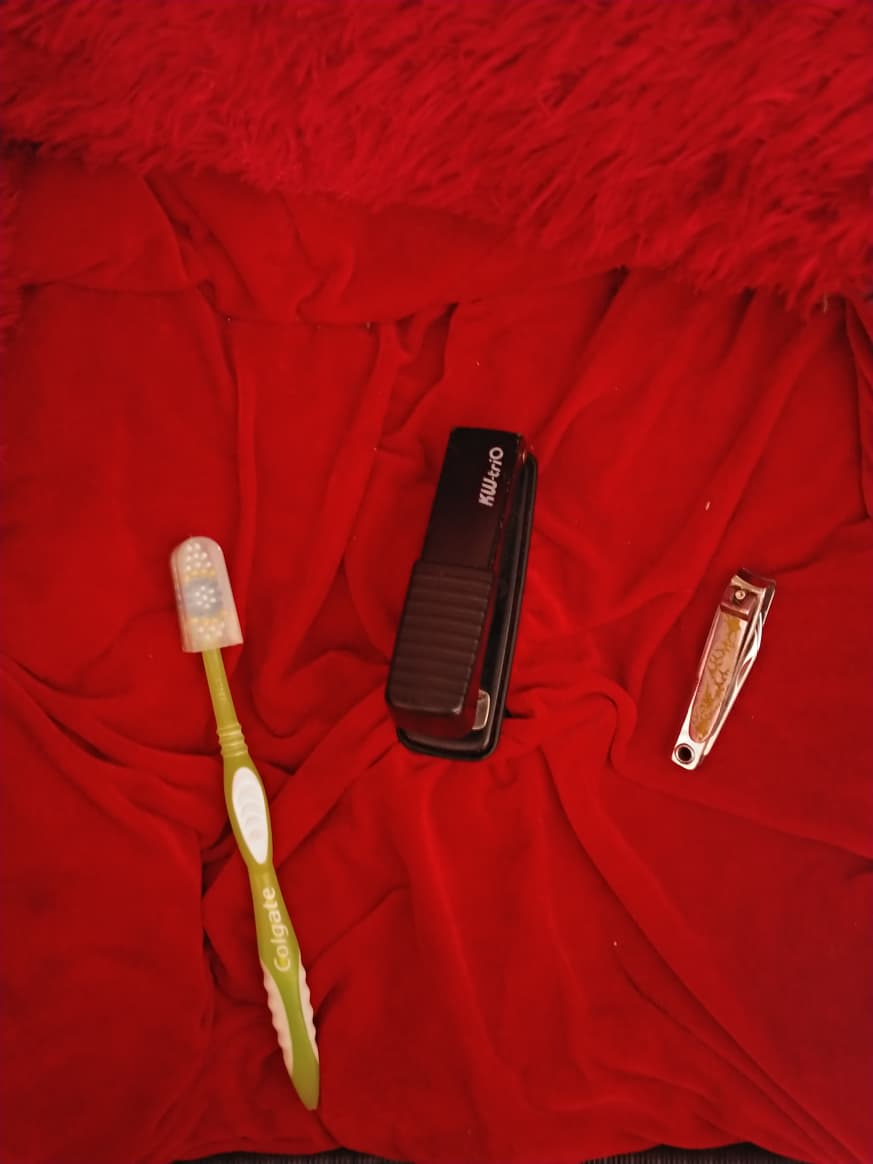Nail cutter: (634, 556, 818, 779)
Stapler: (340, 403, 566, 782)
Toothbrush: (99, 517, 392, 1120)
